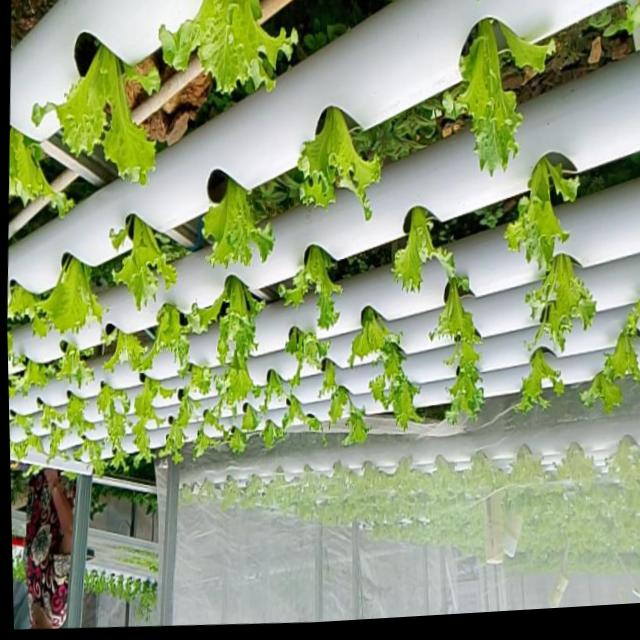Baby: (30, 47, 157, 186), (156, 0, 294, 94), (441, 17, 517, 174), (295, 105, 379, 219), (500, 154, 574, 267), (427, 268, 480, 421), (199, 168, 272, 266), (522, 251, 591, 349), (109, 213, 174, 309), (35, 255, 105, 337), (276, 243, 339, 327), (390, 205, 451, 290), (129, 302, 197, 372), (367, 341, 420, 428), (270, 324, 327, 384), (345, 304, 398, 364), (512, 345, 560, 410), (597, 310, 640, 382), (94, 382, 130, 466), (212, 349, 258, 412), (71, 439, 102, 476), (63, 394, 90, 436), (199, 404, 221, 436), (186, 364, 209, 394), (45, 423, 63, 461)
